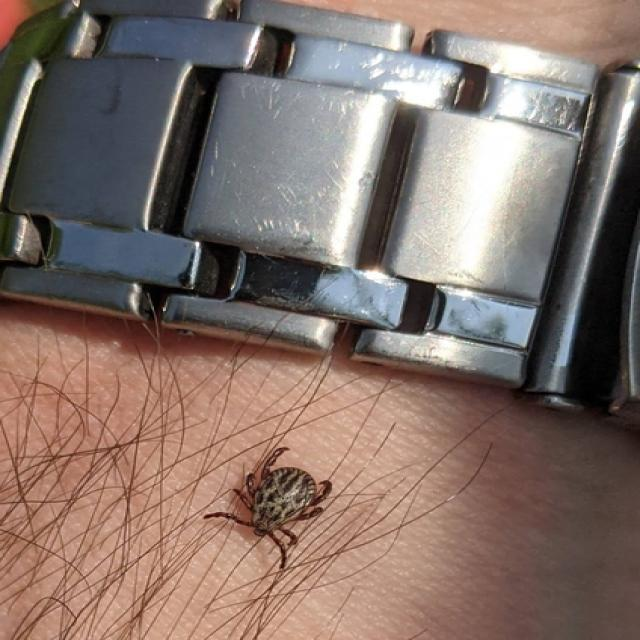Dermacentor Reticulatus-M: (199, 447, 332, 575)
